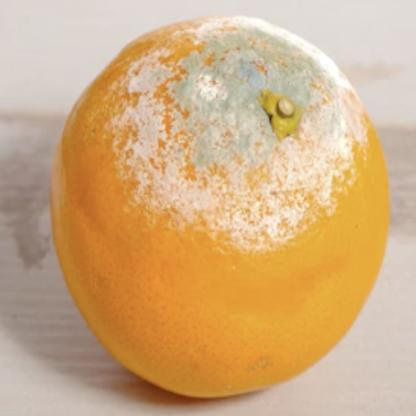rotten: (50, 14, 389, 401)
